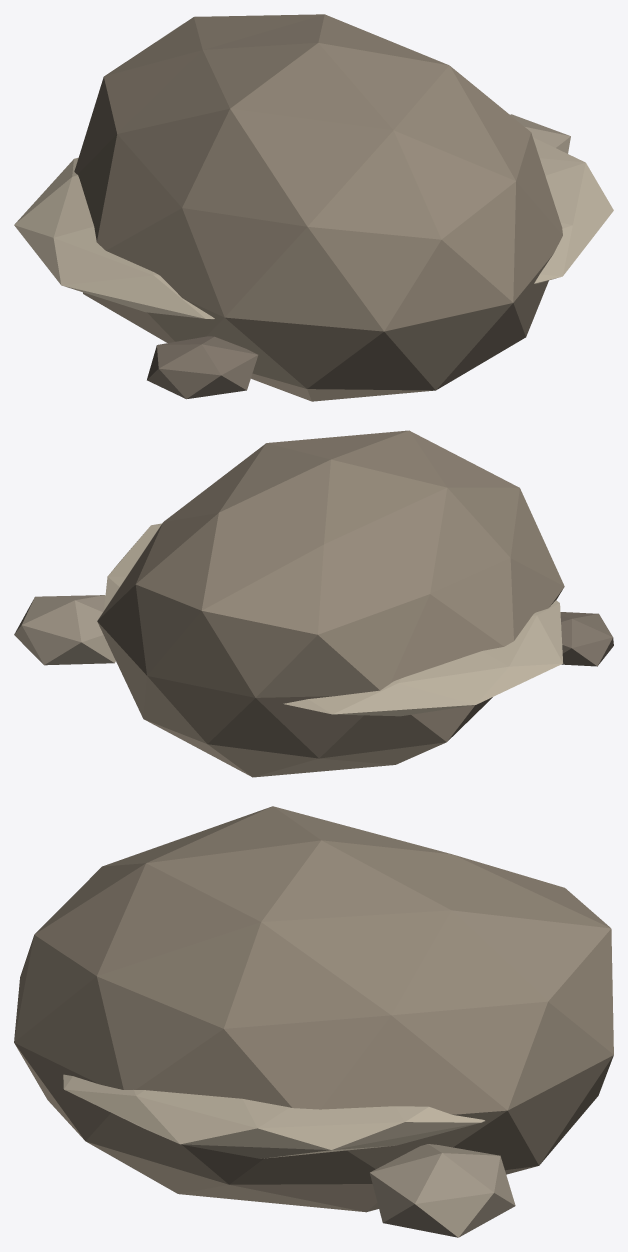
The model's file is river-boulder.glb.
3 renders of one model, top to bottom at view 1: azimuth 30°, elevation 25°; view 2: azimuth 150°, elevation 25°; view 3: azimuth 270°, elevation 25°, orthographic. The views are drawn at different scales.
Parts seen in each view (by area): view 1: river-boulder; view 2: river-boulder; view 3: river-boulder.
Boxes of the visible parts, left/top/right/bottom form: river-boulder: left=14, top=14, right=613, bottom=401; river-boulder: left=14, top=430, right=613, bottom=777; river-boulder: left=14, top=806, right=613, bottom=1237.
Size of the model in its own units: 3.43 by 1.92 by 2.98.
